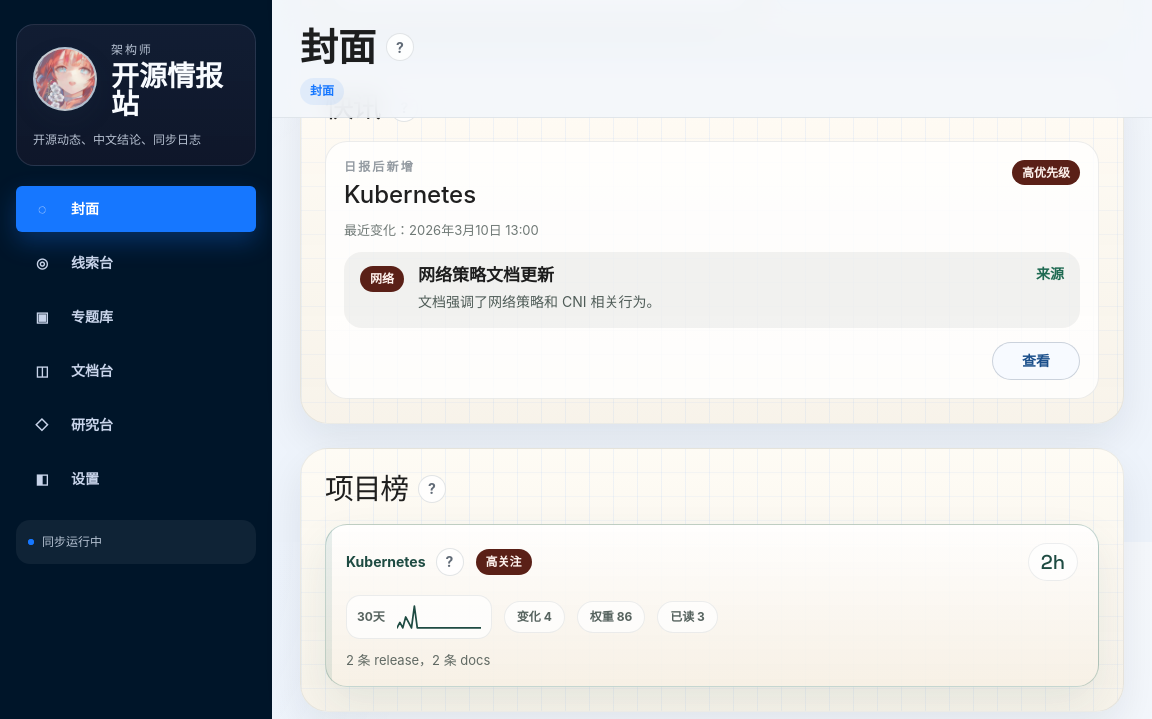
Scenario: App › opens docs desk when clicking a docs quick update
This screenshot has width=1152, height=719.
(page scrolled)
Click the button with aria-label "查看 Kubernetes 快讯".
click(1036, 361)  # box [992,342,1080,380]
(page scrolled)
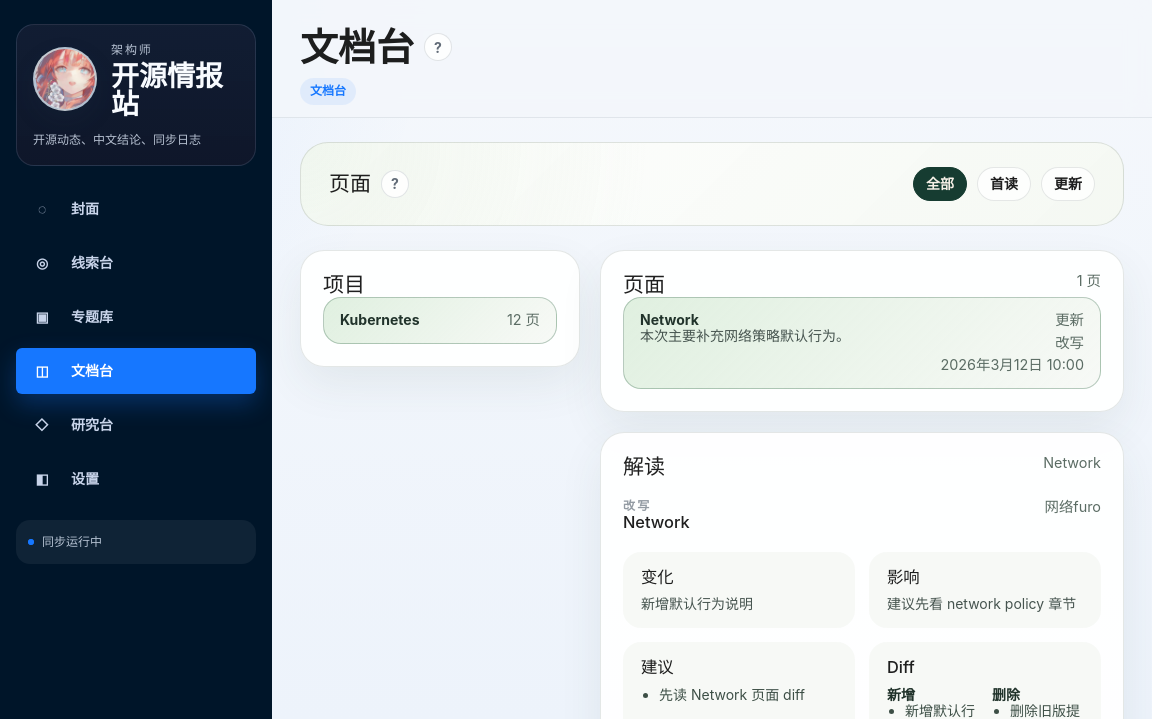
Result: the heading "文档台" is shown at [300,24,414,70]
